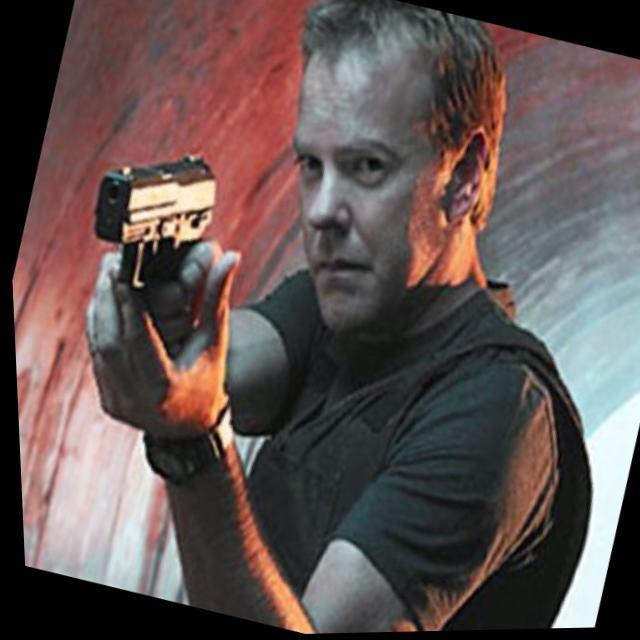weapon: (39, 124, 254, 394)
